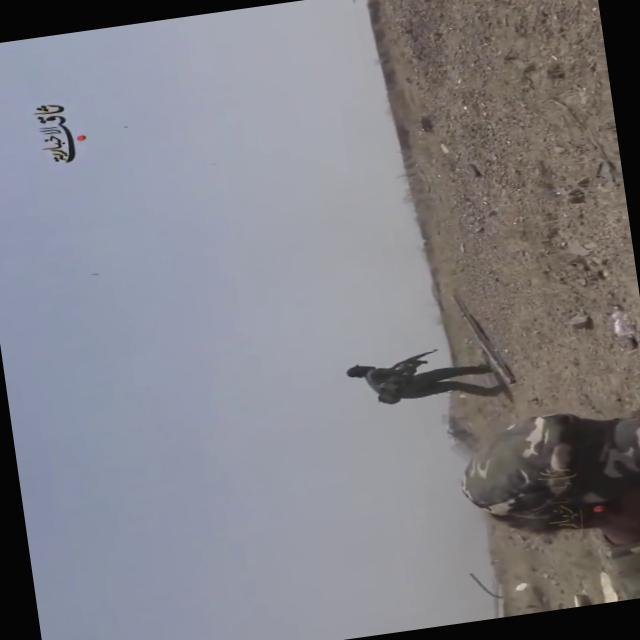long weapon: (378, 338, 447, 376)
